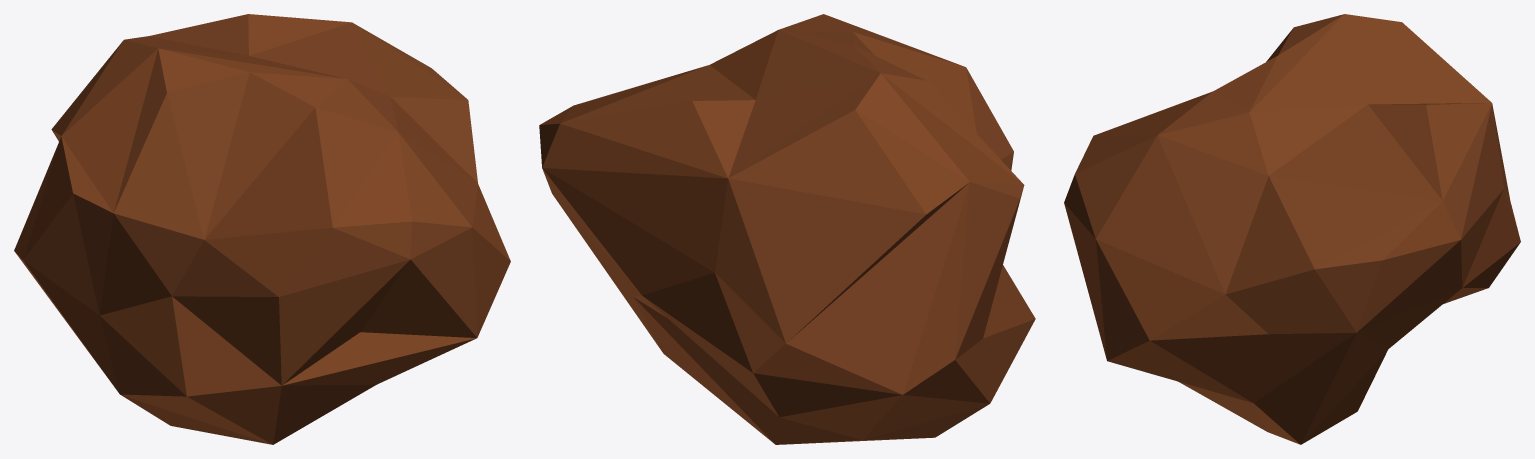
File: Asteroide8.fbx
The picture shows the model from 3 angles, left to right: view 1: azimuth 30°, elevation 25°; view 2: azimuth 150°, elevation 25°; view 3: azimuth 270°, elevation 25°; orthographic projection. The views are drawn at different scales.
Parts seen in each view (by area): view 1: Asteroide8; view 2: Asteroide8; view 3: Asteroide8.
Part boxes in pixels (<box>): Asteroide8: <box>14,14,510,444</box>; Asteroide8: <box>539,14,1035,444</box>; Asteroide8: <box>1064,14,1520,444</box>.
Bounding box in the file's own units: 2.25 × 2.03 × 2.23.
